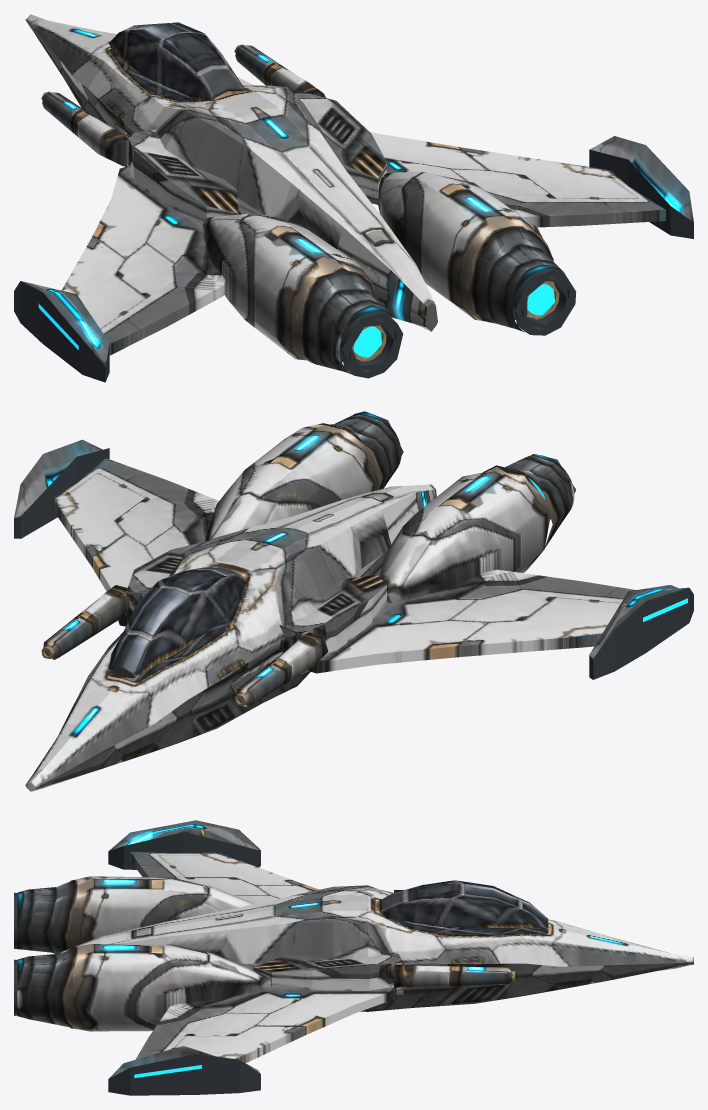
File: interceptor-lod2.glb
3 renders of one model, top to bottom at view 1: azimuth 30°, elevation 25°; view 2: azimuth 150°, elevation 25°; view 3: azimuth 270°, elevation 25°, orthographic. The views are drawn at different scales.
Visible parts, largest first — view 1: Static / Reference artwork | titanium, brass, panels and can, Static / Recesses | dark structural alloy, Static / Cyan luminous apertures, Static / Warm brass collars; view 2: Static / Reference artwork | titanium, brass, panels and can, Static / Recesses | dark structural alloy; view 3: Static / Reference artwork | titanium, brass, panels and can, Static / Recesses | dark structural alloy.
Part boxes in pixels (<box>): Static / Reference artwork | titanium, brass, panels and can: <box>21,14,693,374</box>; Static / Recesses | dark structural alloy: <box>14,149,693,382</box>; Static / Cyan luminous apertures: <box>38,284,554,357</box>; Static / Warm brass collars: <box>41,44,559,361</box>; Static / Reference artwork | titanium, brass, panels and can: <box>14,412,688,791</box>; Static / Recesses | dark structural alloy: <box>14,411,693,679</box>; Static / Reference artwork | titanium, brass, panels and can: <box>17,820,693,1078</box>; Static / Recesses | dark structural alloy: <box>14,832,260,1095</box>.
Bounding box in the file's own units: 11.04 × 2.38 × 13.45.
Materials: 6 (2 with a texture image).
